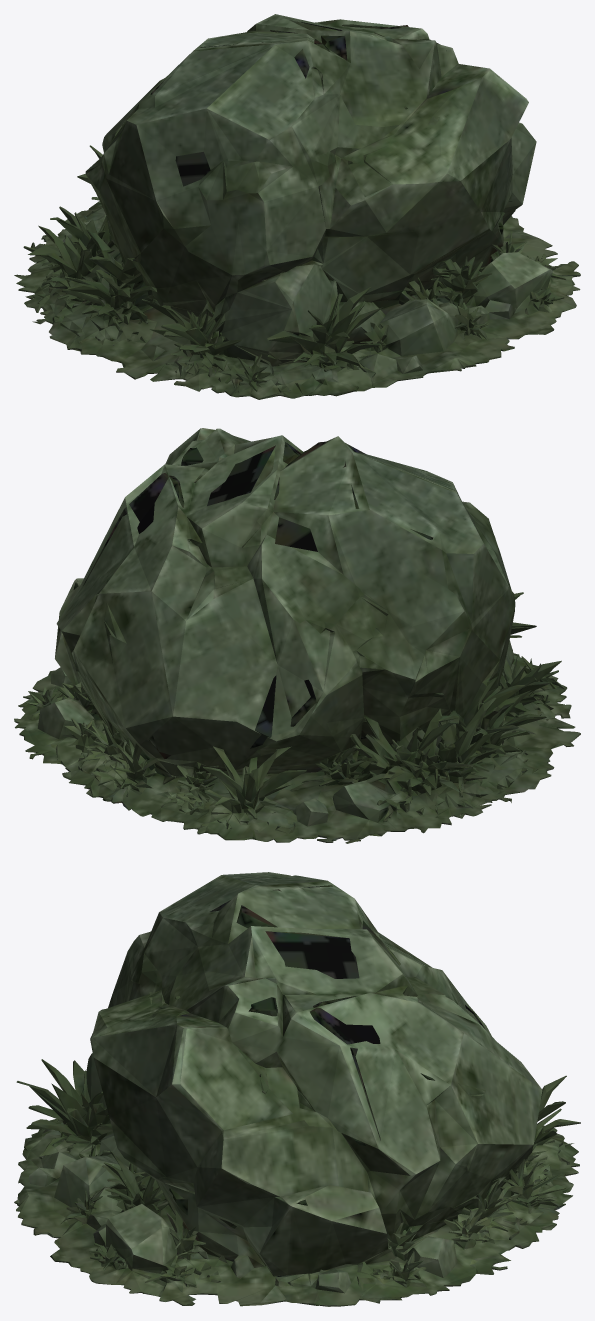
Rendered from bog_rock_01.glb.
The picture shows the model from 3 angles, top to bottom: view 1: azimuth 30°, elevation 25°; view 2: azimuth 150°, elevation 25°; view 3: azimuth 270°, elevation 25°; orthographic projection. The views are drawn at different scales.
Visible parts, largest first — view 1: geometry_0; view 2: geometry_0; view 3: geometry_0.
Part boxes in pixels (x1=…): geometry_0: x1=14, y1=14, x2=580, y2=399; geometry_0: x1=14, y1=428, x2=580, y2=843; geometry_0: x1=14, y1=872, x2=580, y2=1306.
Bounding box in the file's own units: 0.9995 × 0.5579 × 0.9739.
Materials: 1 (1 with a texture image).
